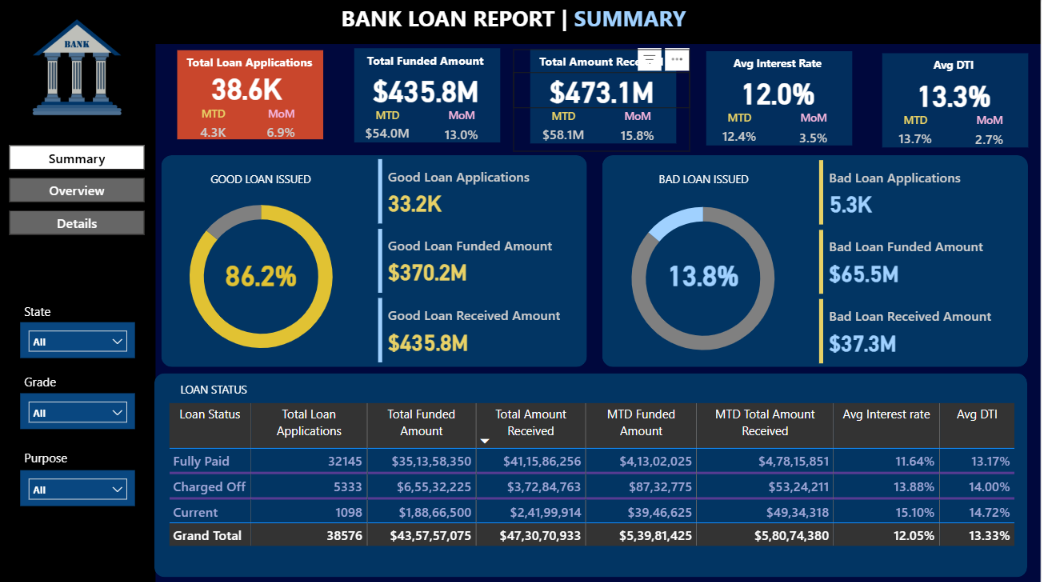

Layout of this report page (visuals, bound fields, positions):
{"tool":"powerbi","page":{"name":"Summary","canvas":[1280,720],"ordinal":0},"visuals":[{"type":"shape","box":[0,0,1280.3,55],"z":0},{"type":"shape","box":[435,60.5,179.6,115.6],"z":0,"group":"g2"},{"type":"shape","box":[650.9,61.4,179.6,115.6],"z":0,"group":"g3"},{"type":"shape","box":[219,62.6,179.6,109.4],"z":0,"group":"g1"},{"type":"shape","box":[866.8,63.6,179.6,115.6],"z":0,"group":"g4"},{"type":"shape","box":[1082.7,65.8,179.6,115.6],"z":0,"group":"g5"},{"type":"shape","box":[0,54,191.8,665.3],"z":1000},{"type":"card","fields":{"Values":["bank_loan_data.Total Loan Applications"]},"box":[191.7,87.6,224.5,41.7],"z":1000,"group":"g1"},{"type":"card","fields":{"Values":["bank_loan_data.Total Funded Amount"]},"box":[414.6,89.1,217.7,43.5],"z":1000,"group":"g2"},{"type":"card","fields":{"Values":["bank_loan_data.Total Amount Receieved"]},"box":[630.5,90,217.7,43.5],"z":1000,"group":"g3"},{"type":"card","fields":{"Values":["bank_loan_data.Avg Interest rate"]},"box":[846.4,92.2,217.7,43.5],"z":1000,"group":"g4"},{"type":"card","fields":{"Values":["bank_loan_data.Avg DTI"]},"box":[1062.3,94.4,217.7,43.5],"z":1000,"group":"g5"},{"type":"textbox","box":[415,0,449,44.9],"z":2000},{"type":"textbox","box":[432.3,60.5,182.3,35.4],"z":2000,"group":"g2"},{"type":"textbox","box":[648.2,61.4,182.3,35.4],"z":2000,"group":"g3"},{"type":"textbox","box":[216.3,62.6,182.3,33.5],"z":2000,"group":"g1"},{"type":"textbox","box":[864.1,63.6,182.3,35.4],"z":2000,"group":"g4"},{"type":"textbox","box":[1080,65.8,182.3,35.4],"z":2000,"group":"g5"},{"type":"card","title":"MTD","fields":{"Values":["bank_loan_data.MTD Loan Applications"]},"box":[236.7,130.8,51.7,50.2],"z":3000,"group":"g1"},{"type":"card","title":"MTD","fields":{"Values":["bank_loan_data.MTD Funded Amount"]},"box":[440.2,133.1,72.1,50.3],"z":3000,"group":"g2"},{"type":"card","title":"MTD","fields":{"Values":["bank_loan_data.MTD Total Amount Received"]},"box":[656.1,134,72.1,50.3],"z":3000,"group":"g3"},{"type":"card","title":"MTD","fields":{"Values":["bank_loan_data.MTD Avg Interest Rate"]},"box":[872,136.2,72.1,50.3],"z":3000,"group":"g4"},{"type":"card","title":"MTD","fields":{"Values":["bank_loan_data.MTD Avg DTI"]},"box":[1087.9,138.4,72.1,50.3],"z":3000,"group":"g5"},{"type":"textbox","box":[217.2,192.6,182.8,35.6],"z":3000},{"type":"group","id":"g1","title":"Group 1","box":[191.7,62.6,224.5,118.4],"z":4000},{"type":"card","title":"MoM","fields":{"Values":["bank_loan_data.MOM Loan Applications"]},"box":[321.1,130.8,51.7,50.2],"z":4000,"group":"g1"},{"type":"card","title":"MoM","fields":{"Values":["bank_loan_data.MOM Total Funded Amount"]},"box":[537.3,133.1,59.9,53.1],"z":4000,"group":"g2"},{"type":"card","title":"MoM","fields":{"Values":["bank_loan_data.MOM Total Amount Received"]},"box":[753.2,134,59.9,53.1],"z":4000,"group":"g3"},{"type":"card","title":"MoM","fields":{"Values":["bank_loan_data.MOM Avg Interest Rate"]},"box":[969.1,136.2,59.9,53.1],"z":4000,"group":"g4"},{"type":"card","title":"MoM","fields":{"Values":["bank_loan_data.MOM Avg DTI"]},"box":[1185,138.4,59.9,53.1],"z":4000,"group":"g5"},{"type":"group","id":"g2","title":"Group 1","box":[414.6,60.5,217.7,125.2],"z":5000},{"type":"group","id":"g3","title":"Group 1","box":[630.5,61.4,217.7,126.5],"z":6000},{"type":"group","id":"g4","title":"Group 1","box":[846.4,63.6,217.7,126.5],"z":7000},{"type":"group","id":"g5","title":"Group 1","box":[1062.3,65.8,217.7,126.5],"z":8000},{"type":"shape","box":[198.6,191.8,522.5,259.9],"z":9000},{"type":"shape","box":[740.1,191.8,522.5,259.9],"z":10000},{"type":"textbox","box":[229.4,206.1,182.8,35.6],"z":11000},{"type":"card","fields":{"Values":["bank_loan_data.Good Loan %"]},"box":[269.9,315.3,103.1,44.2],"z":12000},{"type":"donutChart","fields":{"Category":["bank_loan_data.Good vs Bad Loan"],"Y":["bank_loan_data.Total Loan Applications"]},"box":[196.3,225.8,250.3,229.4],"z":13000},{"type":"cardVisual","fields":{"Data":["bank_loan_data.Good Loan Applications","bank_loan_data.Good Loan Funded Amount","bank_loan_data.Good Loan Received Amount"]},"box":[460.1,191.4,261.4,260.1],"z":14000},{"type":"donutChart","fields":{"Category":["bank_loan_data.Good vs Bad Loan"],"Y":["bank_loan_data.Total Loan Applications"]},"box":[738.7,228.2,250.3,229.4],"z":15000},{"type":"textbox","box":[773,206.1,182.8,35.6],"z":16000},{"type":"card","fields":{"Values":["bank_loan_data.Bad Loan %"]},"box":[812.3,315.3,103.1,44.2],"z":17000},{"type":"cardVisual","fields":{"Data":["bank_loan_data.Bad Loan Applications","bank_loan_data.Bad Loan Funded Amount","bank_loan_data.Bad Loan Received Amount"]},"box":[1001.2,192.6,261.4,260.1],"z":18000},{"type":"shape","box":[190.2,458.9,1071.2,250.3],"z":19000},{"type":"tableEx","fields":{"Values":["bank_loan_data.loan_status","bank_loan_data.Total Loan Applications","bank_loan_data.Total Funded Amount","bank_loan_data.Total Amount Receieved","bank_loan_data.MTD Funded Amount","bank_loan_data.MTD Total Amount Received","bank_loan_data.Avg Interest rate","bank_loan_data.Avg DTI"]},"box":[202.5,490.8,1051.5,218.4],"z":20000},{"type":"slicer","fields":{"Values":["bank_loan_data.address_state"]},"box":[25.8,396.3,141.1,44.2],"z":21000},{"type":"textbox","box":[171.8,465,182.8,35.6],"z":22000},{"type":"textbox","box":[25.8,368.1,51.5,36.8],"z":23000},{"type":"slicer","fields":{"Values":["bank_loan_data.grade"]},"box":[25.8,483.4,141.1,44.2],"z":24000},{"type":"textbox","box":[25.8,454,69.9,36.8],"z":25000},{"type":"slicer","fields":{"Values":["bank_loan_data.purpose"]},"box":[25.8,577.9,141.1,44.2],"z":26000},{"type":"textbox","box":[25.8,547.2,81,36.8],"z":27000},{"type":"image","box":[9.8,0,170.6,166.9],"z":28000},{"type":"pageNavigator","box":[12.3,179.1,166.9,111.7],"z":29000}]}

Visuals, with their boxes in screenshot pixels (x1, y1, x2, y2), scaled from the page's 1280x720 canvas onto the 1042x582 screenshot:
shape: 0,0,1041,44
shape: 354,49,500,142
shape: 530,50,676,143
shape: 178,51,324,139
shape: 706,51,852,145
shape: 881,53,1028,147
shape: 0,44,156,581
card - bank_loan_data.Total Loan Applications: 156,71,339,105
card - bank_loan_data.Total Funded Amount: 338,72,515,107
card - bank_loan_data.Total Amount Receieved: 513,73,690,108
card - bank_loan_data.Avg Interest rate: 689,75,866,110
card - bank_loan_data.Avg DTI: 865,76,1041,111
textbox: 338,0,703,36
textbox: 352,49,500,78
textbox: 528,50,676,78
textbox: 176,51,324,78
textbox: 703,51,852,80
textbox: 879,53,1028,82
"MTD" card: 193,106,235,146
"MTD" card: 358,108,417,148
"MTD" card: 534,108,593,149
"MTD" card: 710,110,769,151
"MTD" card: 886,112,944,153
textbox: 177,156,326,184
"Group 1" group: 156,51,339,146
"MoM" card: 261,106,303,146
"MoM" card: 437,108,486,151
"MoM" card: 613,108,662,151
"MoM" card: 789,110,838,153
"MoM" card: 965,112,1013,155
"Group 1" group: 338,49,515,150
"Group 1" group: 513,50,690,152
"Group 1" group: 689,51,866,154
"Group 1" group: 865,53,1041,155
shape: 162,155,587,365
shape: 602,155,1028,365
textbox: 187,167,336,195
card - bank_loan_data.Good Loan %: 220,255,304,291
donutChart - bank_loan_data.Good vs Bad Loan x bank_loan_data.Total Loan Applications: 160,183,364,368
cardVisual - bank_loan_data.Good Loan Applications x bank_loan_data.Good Loan Funded Amount: 375,155,587,365
donutChart - bank_loan_data.Good vs Bad Loan x bank_loan_data.Total Loan Applications: 601,184,805,370
textbox: 629,167,778,195
card - bank_loan_data.Bad Loan %: 661,255,745,291
cardVisual - bank_loan_data.Bad Loan Applications x bank_loan_data.Bad Loan Funded Amount: 815,156,1028,366
shape: 155,371,1027,573
tableEx - bank_loan_data.loan_status x bank_loan_data.Total Loan Applications: 165,397,1021,573
slicer - bank_loan_data.address_state: 21,320,136,356
textbox: 140,376,289,405
textbox: 21,298,63,327
slicer - bank_loan_data.grade: 21,391,136,426
textbox: 21,367,78,397
slicer - bank_loan_data.purpose: 21,467,136,503
textbox: 21,442,87,472
image: 8,0,147,135
pageNavigator: 10,145,146,235
